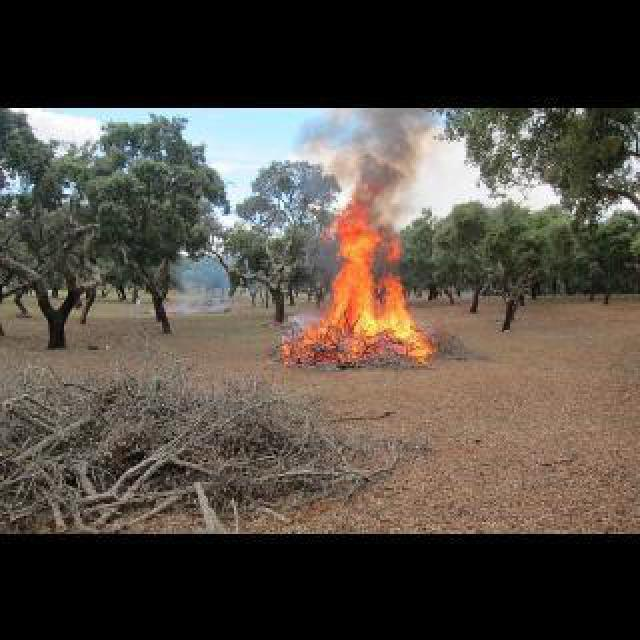fire: (289, 112, 431, 202)
smoke: (282, 206, 432, 360)
